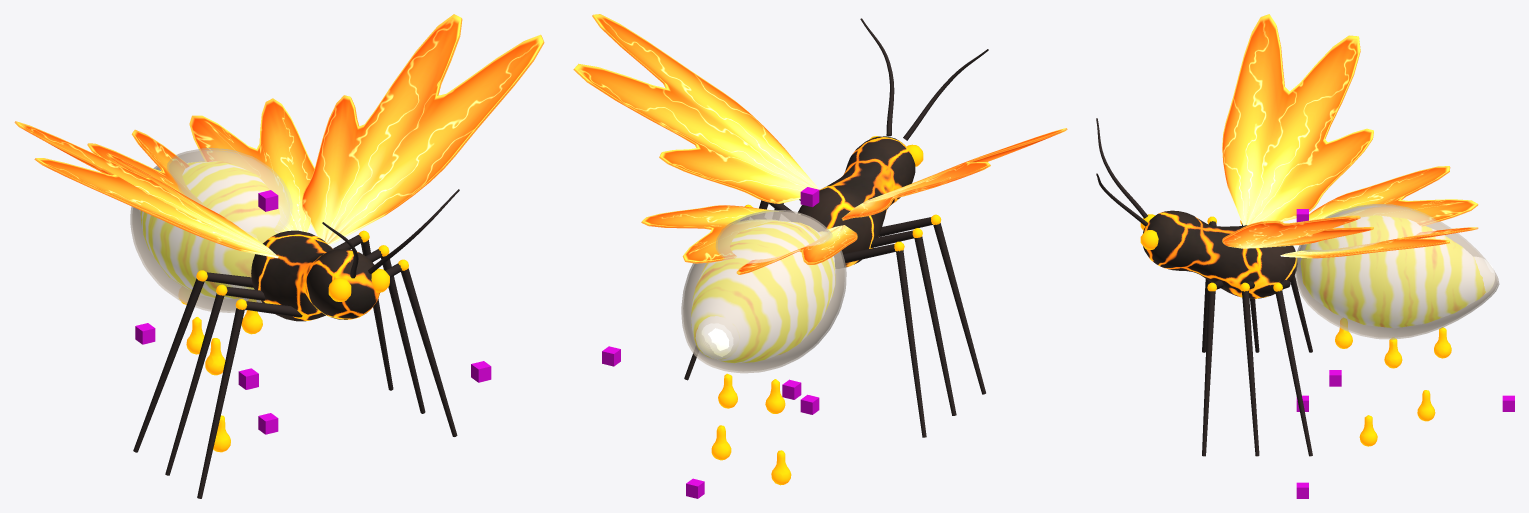
Rendered from 07_flegetonte_scintilla.glb.
3 views of the same model, side by side, from view 1: azimuth 30°, elevation 25°; view 2: azimuth 150°, elevation 25°; view 3: azimuth 270°, elevation 25° (orthographic). The views are drawn at different scales.
Parts seen in each view (by area): view 1: Flegetonte__Ali_Fiamma, Flegetonte__Guscio_Vetro, Flegetonte__Zampe, Flegetonte__Fuoco_Che_Scorre, Flegetonte__Chitina_Vulcanica, Flegetonte__Gocce_Lava; view 2: Flegetonte__Ali_Fiamma, Flegetonte__Guscio_Vetro, Flegetonte__Fuoco_Che_Scorre, Flegetonte__Zampe, Flegetonte__Chitina_Vulcanica, Flegetonte__Gocce_Lava, Flegetonte__Bolle_Lava; view 3: Flegetonte__Ali_Fiamma, Flegetonte__Guscio_Vetro, Flegetonte__Fuoco_Che_Scorre, Flegetonte__Chitina_Vulcanica, Flegetonte__Zampe, Flegetonte__Gocce_Lava.
Boxes of the visible parts, x1=… form: Flegetonte__Ali_Fiamma: x1=14, y1=14, x2=544, y2=258; Flegetonte__Guscio_Vetro: x1=130, y1=148, x2=292, y2=312; Flegetonte__Zampe: x1=133, y1=189, x2=459, y2=498; Flegetonte__Fuoco_Che_Scorre: x1=141, y1=161, x2=280, y2=298; Flegetonte__Chitina_Vulcanica: x1=251, y1=230, x2=379, y2=321; Flegetonte__Gocce_Lava: x1=179, y1=230, x2=408, y2=452; Flegetonte__Ali_Fiamma: x1=573, y1=14, x2=1067, y2=274; Flegetonte__Guscio_Vetro: x1=681, y1=210, x2=846, y2=373; Flegetonte__Fuoco_Che_Scorre: x1=691, y1=221, x2=834, y2=362; Flegetonte__Zampe: x1=684, y1=18, x2=988, y2=437; Flegetonte__Chitina_Vulcanica: x1=798, y1=136, x2=915, y2=267; Flegetonte__Gocce_Lava: x1=711, y1=136, x2=941, y2=485; Flegetonte__Bolle_Lava: x1=696, y1=316, x2=738, y2=358; Flegetonte__Ali_Fiamma: x1=1222, y1=14, x2=1478, y2=258; Flegetonte__Guscio_Vetro: x1=1295, y1=204, x2=1499, y2=339; Flegetonte__Fuoco_Che_Scorre: x1=1301, y1=215, x2=1492, y2=327; Flegetonte__Chitina_Vulcanica: x1=1143, y1=210, x2=1297, y2=298; Flegetonte__Zampe: x1=1096, y1=118, x2=1312, y2=456; Flegetonte__Gocce_Lava: x1=1140, y1=214, x2=1451, y2=446.
Bounding box in the file's own units: 3.57 × 2.67 × 3.05.
Materials: 8 (3 with a texture image).
